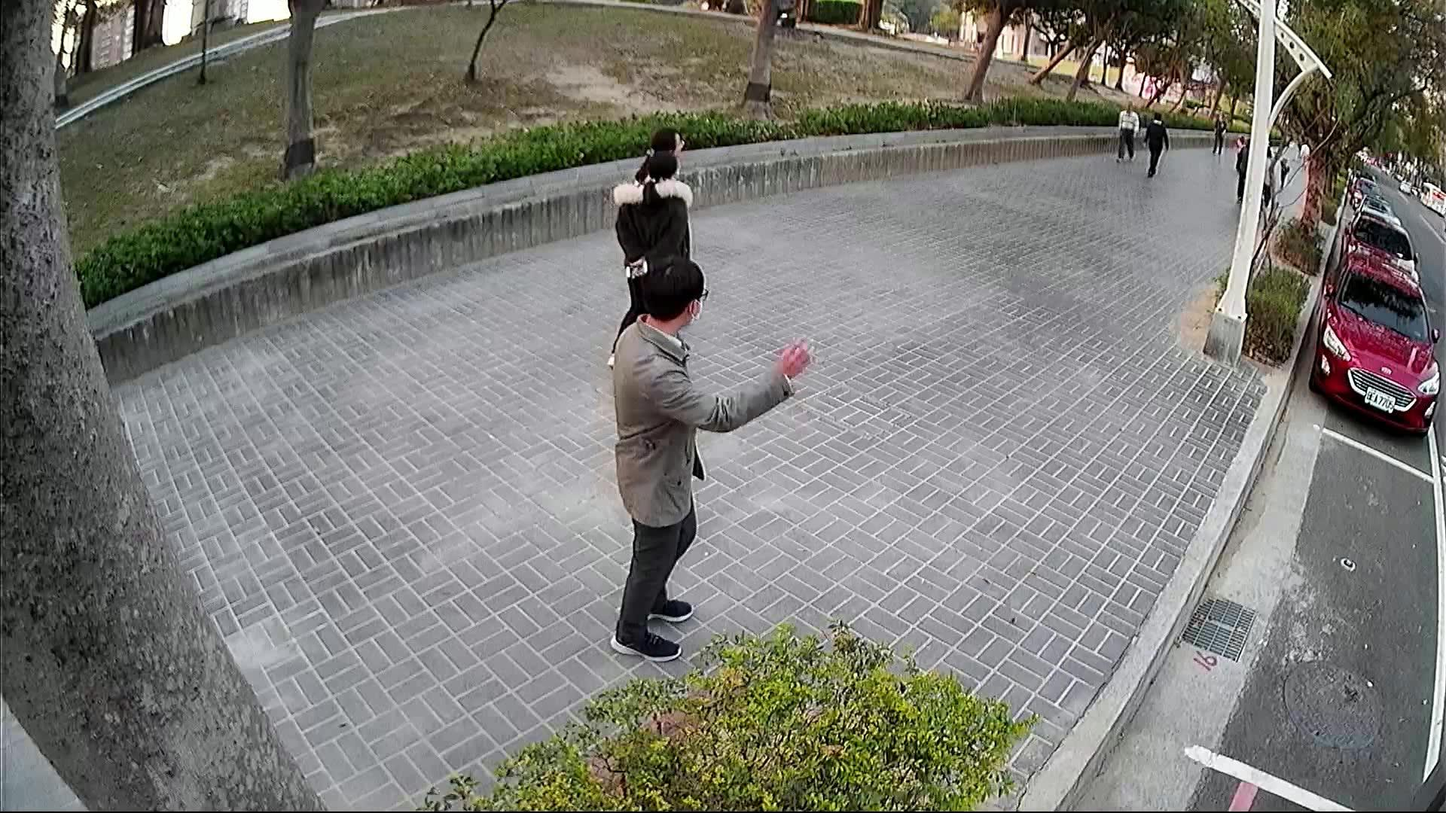person: (604, 249, 819, 668), (601, 144, 700, 370), (1136, 103, 1172, 180), (1228, 133, 1261, 204), (1111, 97, 1141, 166)
